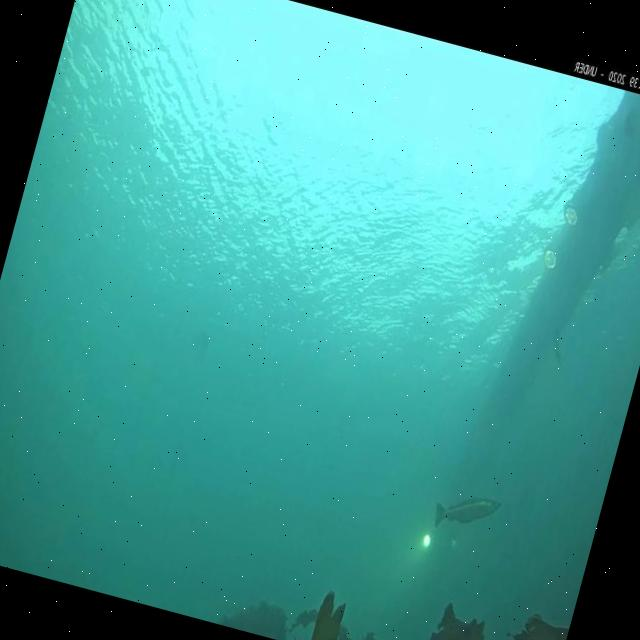fish: (430, 484, 503, 541), (545, 325, 569, 369)
